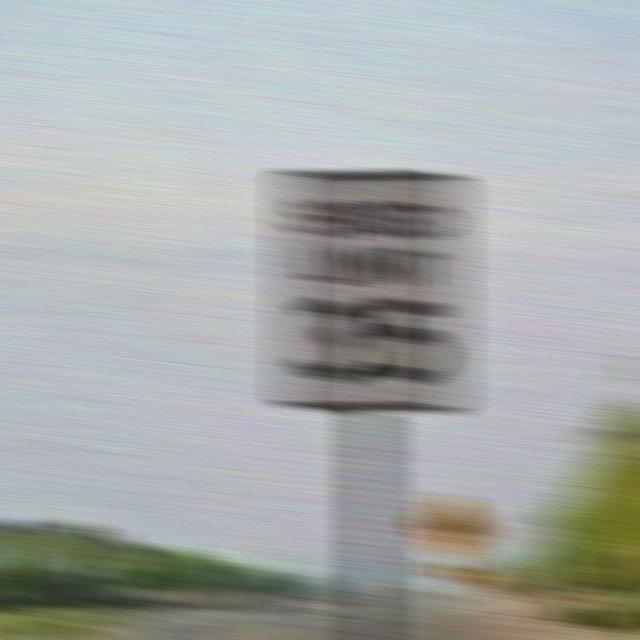speedLimit35: (278, 167, 464, 414)
